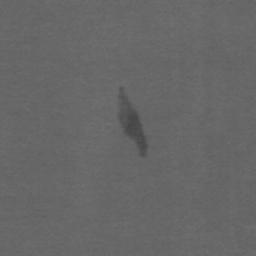Iron scale compression: (118, 87, 149, 157)
